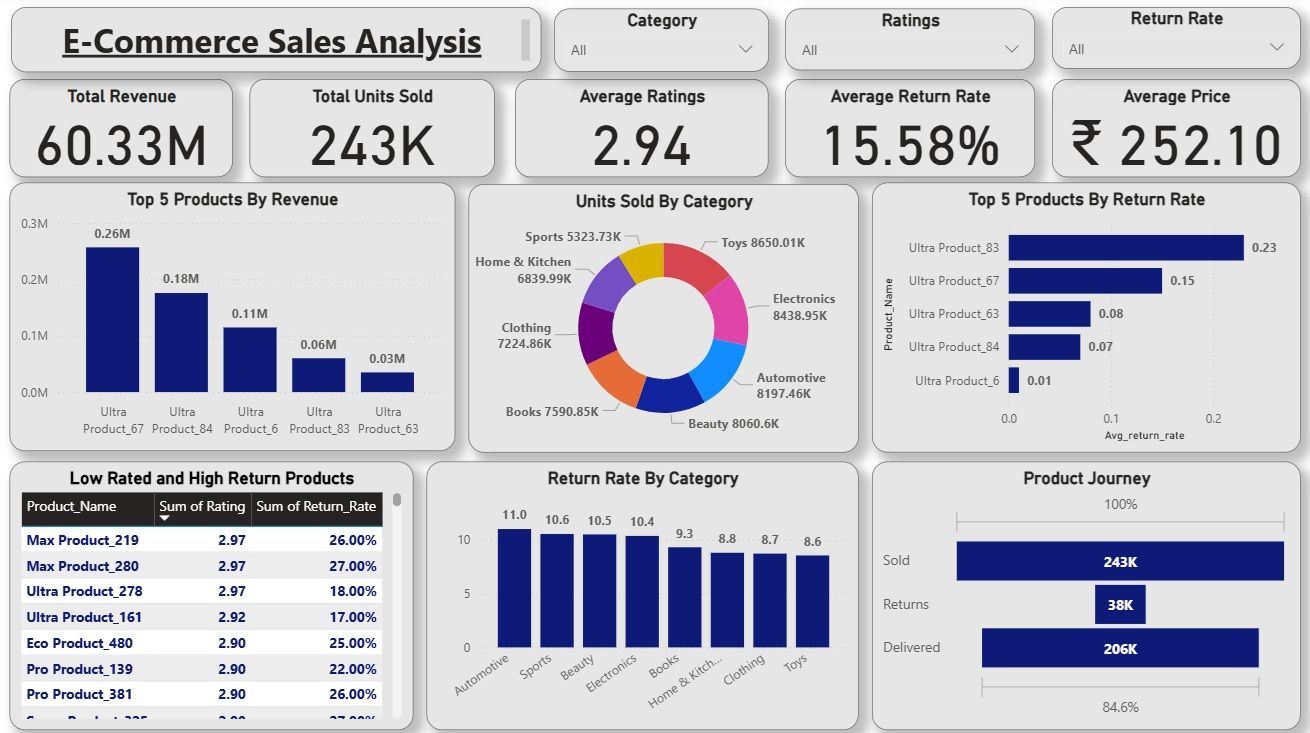

The page's visual inventory and layout, read from the dashboard file:
{"tool":"powerbi","page":{"name":"Page 1","canvas":[1280,720],"ordinal":0},"visuals":[{"type":"card","title":"Total Revenue","fields":{"Values":["Sum(Ecommerce_Product_Sales.Revenue)"]},"box":[13,81.2,217,95.5],"z":0},{"type":"textbox","box":[14.6,11.3,514.9,63.1],"z":1},{"type":"card","title":"Total Units Sold","fields":{"Values":["Sum(Ecommerce_Product_Sales.Units_Sold)"]},"box":[246.1,81.7,238,95.5],"z":2},{"type":"card","title":"Average Ratings","fields":{"Values":["Ecommerce_Product_Sales.Avg_Ratings"]},"box":[503.6,81.7,246.1,95.5],"z":3},{"type":"card","title":"Average Return Rate","fields":{"Values":["Ecommerce_Product_Sales.Avg_return_rate"]},"box":[765.9,81.7,242.9,95.5],"z":4},{"type":"card","title":"Average Price","fields":{"Values":["Ecommerce_Product_Sales.Avg_price"]},"box":[1025,81.7,241.3,95.5],"z":5},{"type":"clusteredColumnChart","title":"Top 5 Products By Revenue","fields":{"Category":["Ecommerce_Product_Sales.Product_Name"],"Y":["Sum(Ecommerce_Product_Sales.Revenue)"]},"box":[13,181.7,432.3,260.7],"z":6},{"type":"donutChart","title":"Units Sold By Category","fields":{"Category":["Ecommerce_Product_Sales.Category"],"Y":["Sum(Ecommerce_Product_Sales.Revenue)"]},"box":[458.2,183.3,378.9,260.7],"z":7},{"type":"barChart","title":"Top 5 Products By Return Rate","fields":{"Category":["Ecommerce_Product_Sales.Product_Name"],"Y":["Ecommerce_Product_Sales.Avg_return_rate"]},"box":[850.1,181.7,416.1,262.3],"z":8},{"type":"tableEx","title":"Low Rated and High Return Products","fields":{"Values":["Ecommerce_Product_Sales.Product_Name","Sum(Ecommerce_Product_Sales.Rating)","Sum(Ecommerce_Product_Sales.Return_Rate)"]},"box":[13,453.4,391.9,260.7],"z":9},{"type":"clusteredColumnChart","title":"Return Rate By Category","fields":{"Category":["Ecommerce_Product_Sales.Category"],"Y":["Sum(Ecommerce_Product_Sales.Return_Rate)"]},"box":[417.8,453.4,419.4,260.7],"z":10},{"type":"slicer","title":"Category","fields":{"Values":["Ecommerce_Product_Sales.Category"]},"box":[540.8,13,208.9,61.5],"z":11},{"type":"slicer","title":"Ratings","fields":{"Values":["Ecommerce_Product_Sales.Rating"]},"box":[765.9,13,242.9,59.9],"z":12},{"type":"slicer","title":"Return Rate","fields":{"Values":["Ecommerce_Product_Sales.Return_Rate"]},"box":[1025,11.3,241.3,59.9],"z":13},{"type":"funnel","title":"Product Journey","fields":{"Y":["Sum(Ecommerce_Product_Sales.Units_Sold)","Sum(Ecommerce_Product_Sales.Estimated_Returns)","Sum(Ecommerce_Product_Sales.Final_Deliveries)"]},"box":[850.1,453.4,416.1,260.7],"z":14}]}

Visuals, with their boxes in screenshot pixels (x1, y1, x2, y2), scaled from the page's 1280x720 canvas onto the 1310x733 screenshot:
"Total Revenue" card: x1=13, y1=83, x2=235, y2=180
textbox: x1=15, y1=12, x2=542, y2=76
"Total Units Sold" card: x1=252, y1=83, x2=495, y2=180
"Average Ratings" card: x1=515, y1=83, x2=767, y2=180
"Average Return Rate" card: x1=784, y1=83, x2=1032, y2=180
"Average Price" card: x1=1049, y1=83, x2=1296, y2=180
"Top 5 Products By Revenue" clusteredColumnChart: x1=13, y1=185, x2=456, y2=450
"Units Sold By Category" donutChart: x1=469, y1=187, x2=857, y2=452
"Top 5 Products By Return Rate" barChart: x1=870, y1=185, x2=1296, y2=452
"Low Rated and High Return Products" tableEx: x1=13, y1=462, x2=414, y2=727
"Return Rate By Category" clusteredColumnChart: x1=428, y1=462, x2=857, y2=727
"Category" slicer: x1=553, y1=13, x2=767, y2=76
"Ratings" slicer: x1=784, y1=13, x2=1032, y2=74
"Return Rate" slicer: x1=1049, y1=12, x2=1296, y2=72
"Product Journey" funnel: x1=870, y1=462, x2=1296, y2=727
